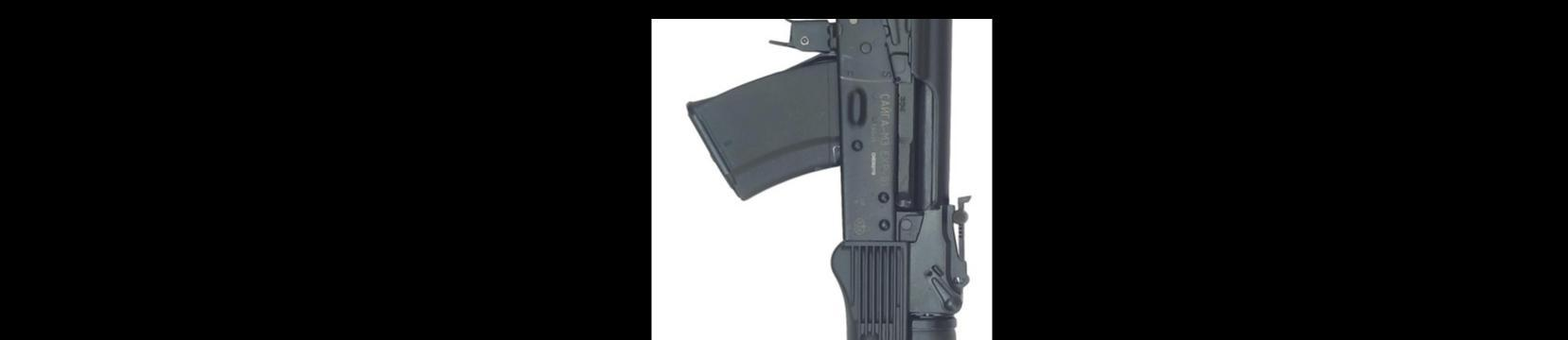larga: (683, 19, 976, 340)
